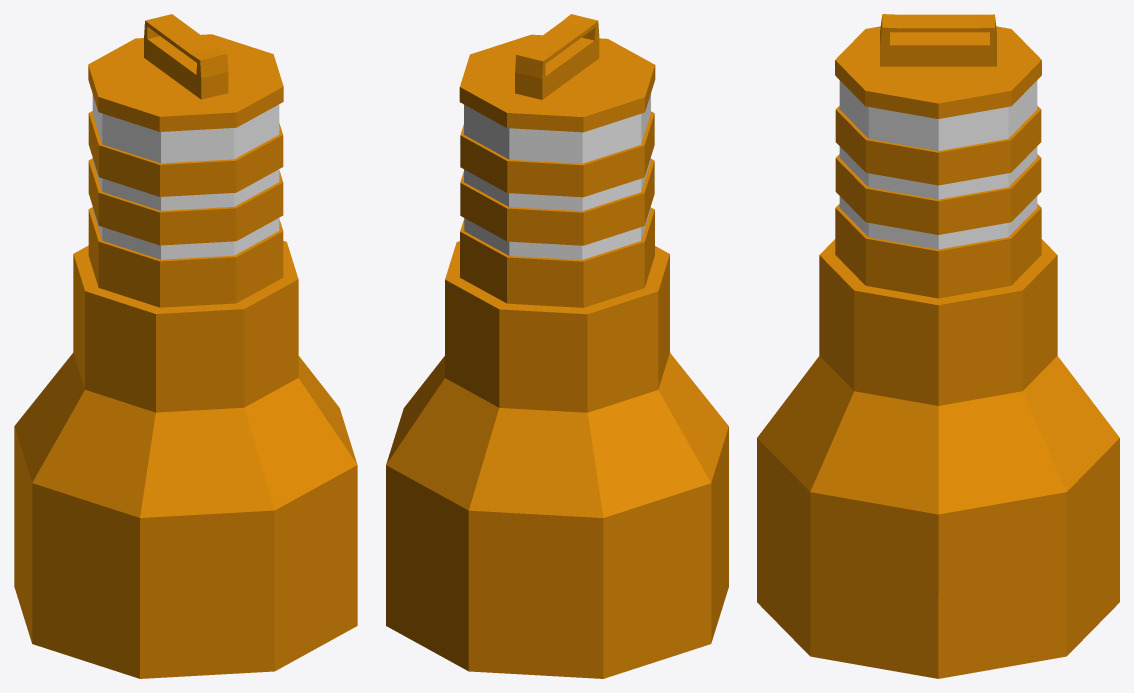
Rendered from cone_grande.fbx.
3 views of the same model, side by side, from view 1: azimuth 30°, elevation 25°; view 2: azimuth 150°, elevation 25°; view 3: azimuth 270°, elevation 25° (orthographic). The views are drawn at different scales.
Visible parts, largest first — view 1: cone_grande; view 2: cone_grande; view 3: cone_grande.
Part boxes in pixels (left/top/right/bottom): cone_grande: left=14, top=14, right=357, bottom=678; cone_grande: left=386, top=14, right=728, bottom=678; cone_grande: left=757, top=14, right=1119, bottom=678.
Size of the model in its own units: 54.69 by 96.73 by 54.69.
